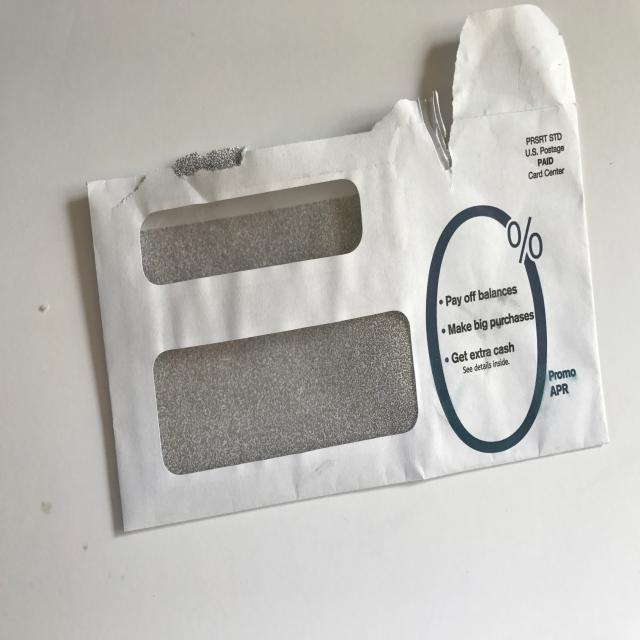paper: (85, 4, 609, 532)
